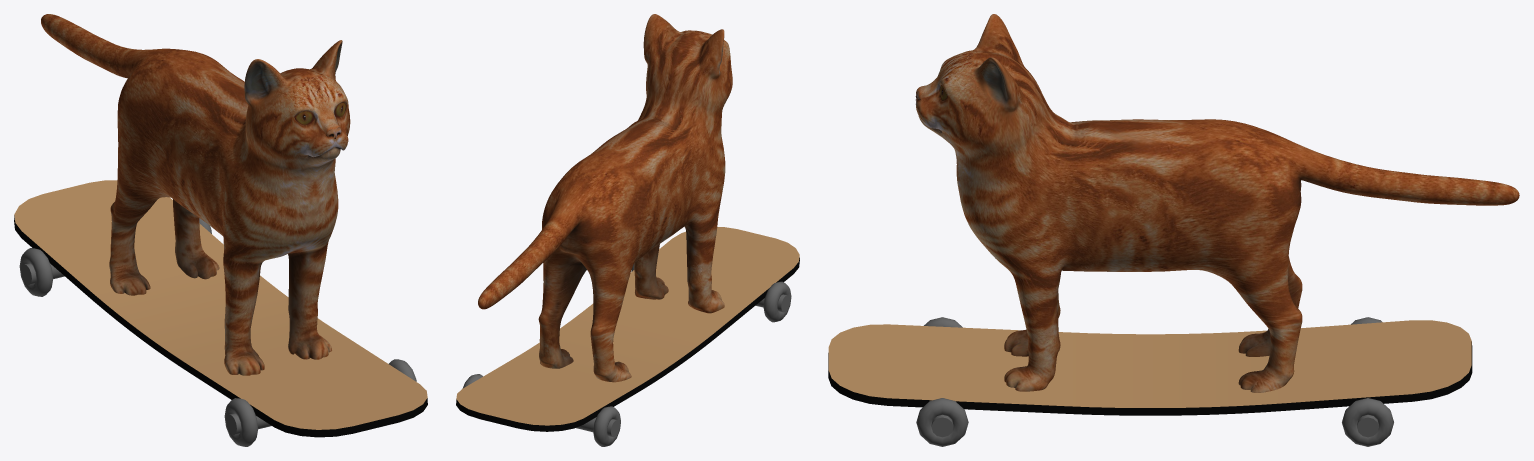
Rendered from cat on board.fbx.
The picture shows the model from 3 angles, left to right: view 1: azimuth 30°, elevation 25°; view 2: azimuth 150°, elevation 25°; view 3: azimuth 270°, elevation 25°; orthographic projection. The views are drawn at different scales.
Parts seen in each view (by area): view 1: 12221_Cat_v1_l3, pCube1, pTorus3, pTorus4; view 2: 12221_Cat_v1_l3, pCube1, pTorus4, pTorus3; view 3: 12221_Cat_v1_l3, pCube1, pTorus3, pTorus4.
Boxes of the visible parts, bbox=[...] form: 12221_Cat_v1_l3: bbox=[41, 14, 350, 375]; pCube1: bbox=[14, 180, 427, 437]; pTorus3: bbox=[224, 359, 416, 446]; pTorus4: bbox=[19, 218, 211, 296]; 12221_Cat_v1_l3: bbox=[478, 14, 732, 382]; pCube1: bbox=[456, 227, 799, 431]; pTorus4: bbox=[462, 374, 620, 446]; pTorus3: bbox=[631, 263, 791, 322]; 12221_Cat_v1_l3: bbox=[915, 14, 1519, 392]; pCube1: bbox=[828, 320, 1472, 415]; pTorus3: bbox=[916, 317, 968, 446]; pTorus4: bbox=[1342, 317, 1393, 446].
Bounding box in the file's own units: 4.25 × 8.13 × 13.69.
Materials: 4 (1 with a texture image).
